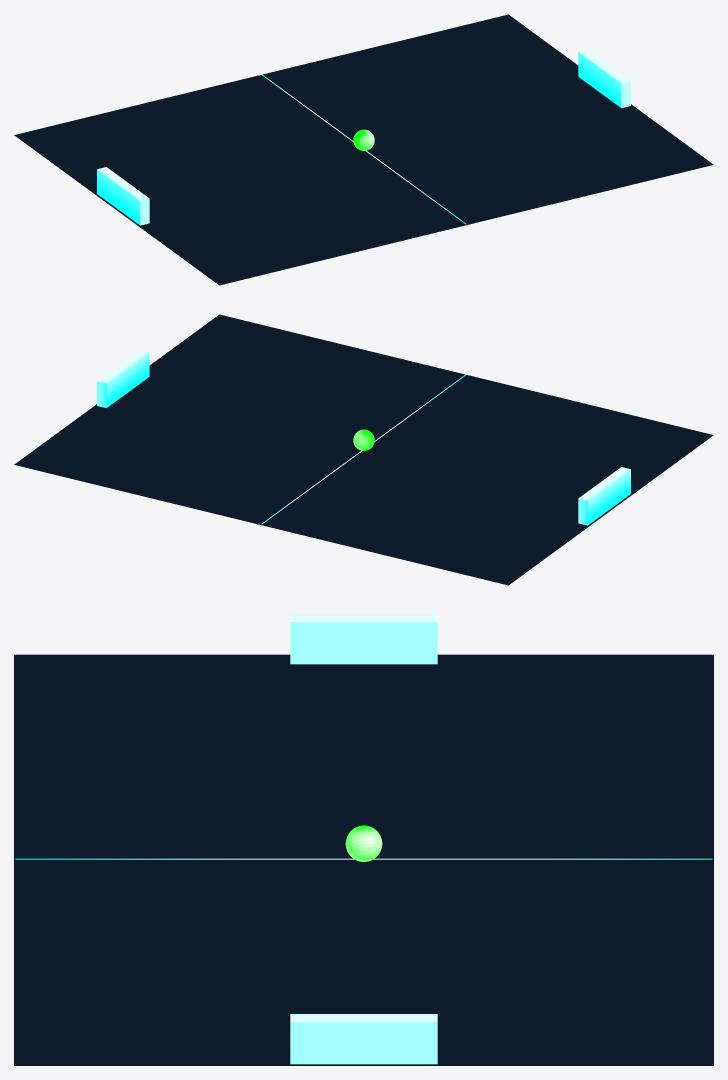
Rendered from game.glb.
The picture shows the model from 3 angles, top to bottom: view 1: azimuth 30°, elevation 25°; view 2: azimuth 150°, elevation 25°; view 3: azimuth 270°, elevation 25°; orthographic projection. The views are drawn at different scales.
Visible parts, largest first — view 1: floorPlane, paddleLeft, paddleRight; view 2: floorPlane, paddleLeft, paddleRight; view 3: floorPlane, paddleLeft, paddleRight, centreLine, pongBall.
Part boxes in pixels (<box>): floorPlane: <box>14,14,713,285</box>; paddleLeft: <box>97,167,149,225</box>; paddleRight: <box>578,49,630,108</box>; floorPlane: <box>14,314,713,585</box>; paddleLeft: <box>578,467,630,525</box>; paddleRight: <box>97,349,149,408</box>; floorPlane: <box>14,654,713,1065</box>; paddleLeft: <box>290,614,437,664</box>; paddleRight: <box>290,1014,437,1064</box>; centreLine: <box>15,858,712,859</box>; pongBall: <box>345,825,382,861</box>.
Bounding box in the file's own units: 41.7 × 2 × 30.
Materials: 3 (2 with a texture image).
